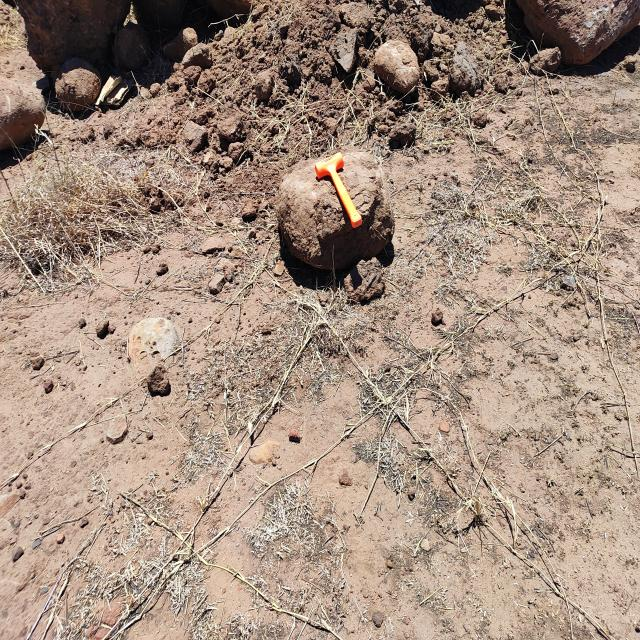Orange_hammer: (314, 151, 362, 229)
